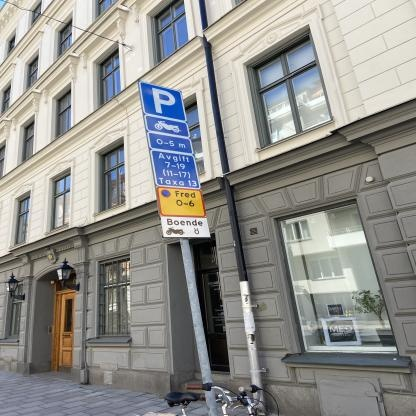P-skylt: (136, 79, 188, 123)
